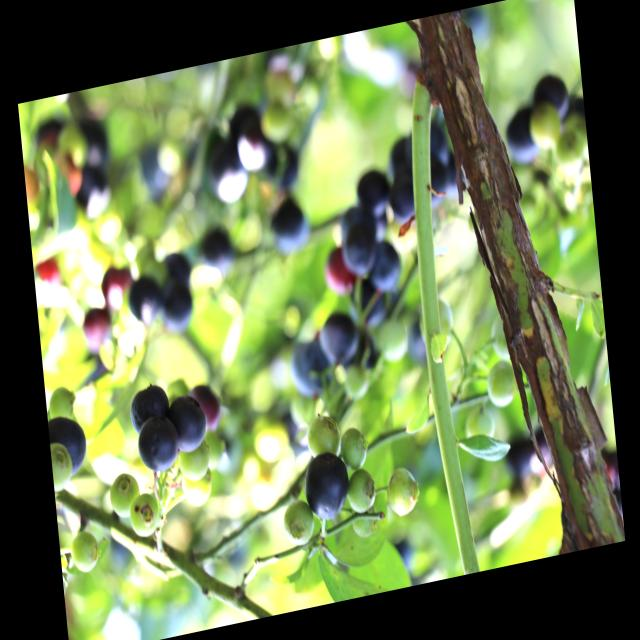blueberry: (301, 442, 354, 524), (317, 310, 363, 377), (48, 412, 91, 480), (136, 413, 181, 472), (169, 391, 208, 458), (128, 379, 172, 436), (531, 67, 575, 123), (505, 105, 543, 167), (354, 165, 394, 222), (269, 196, 307, 252), (340, 219, 378, 275), (366, 238, 404, 294), (160, 280, 192, 334), (128, 276, 162, 326), (202, 226, 236, 272), (389, 177, 419, 226)
blueberry-unripe: (385, 464, 420, 520), (107, 469, 142, 522), (281, 496, 315, 550), (343, 466, 377, 518), (306, 414, 342, 462), (176, 438, 213, 483), (128, 492, 162, 540), (338, 425, 369, 472), (486, 362, 516, 408), (181, 469, 214, 509), (70, 531, 100, 574), (50, 440, 74, 492), (350, 504, 379, 540)
